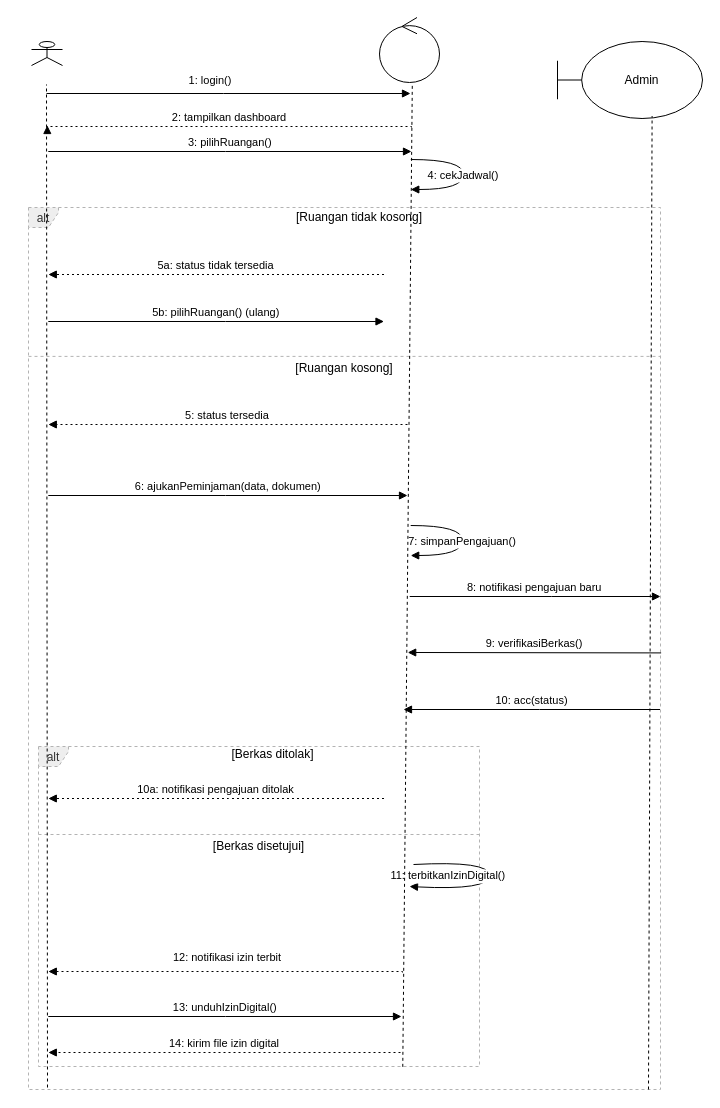
Some shapes in this 720 by 1108 pixel diagram are drawn without their labels. Each missing label, with the centre of its shape:
Mahasiswa: point 46,53
Sistem: point 409,49
